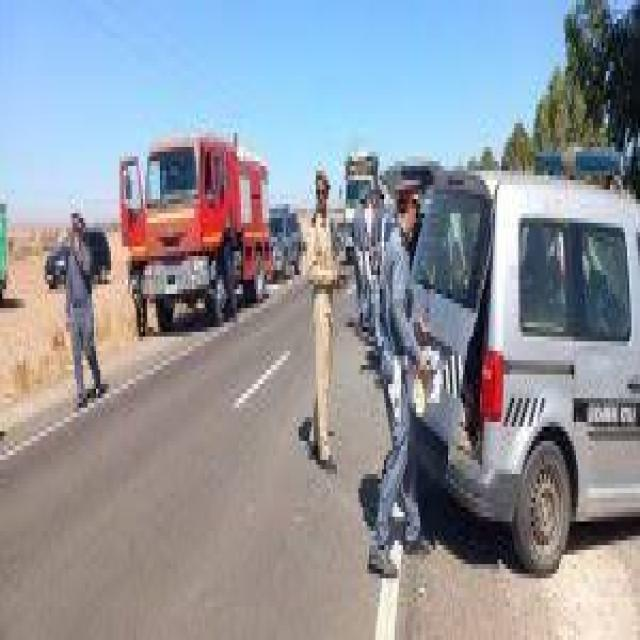pompier: (119, 131, 269, 334)
